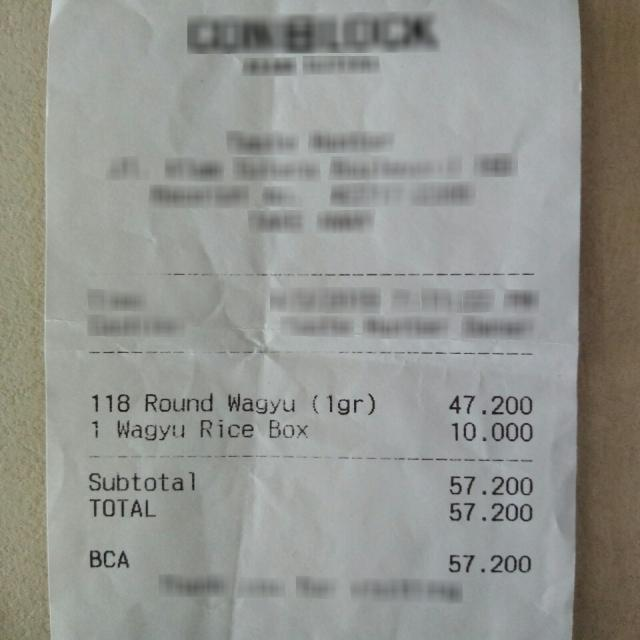kertas: (46, 0, 580, 640)
